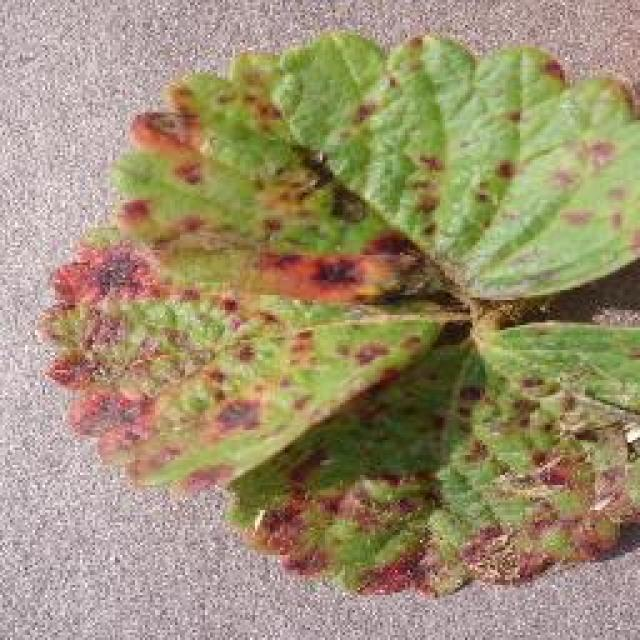Strawberry leaf scorch: (120, 133, 567, 535)
